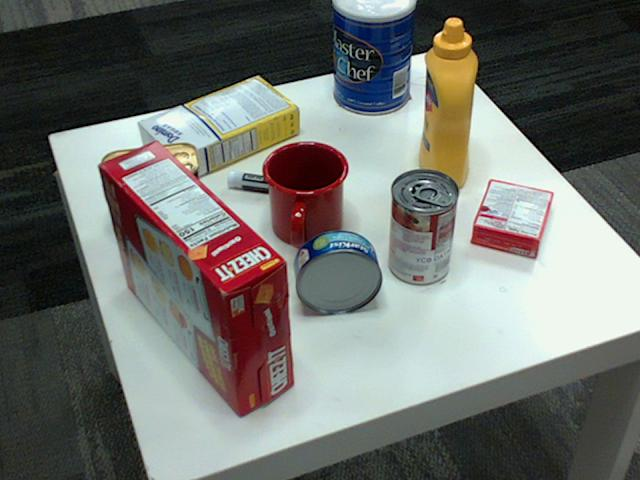cracker_box: (96, 140, 294, 414)
gelatin_box: (472, 179, 554, 257)
large_marker: (226, 174, 329, 199)
master_chef_can: (331, 0, 414, 114)
mug: (262, 138, 350, 246)
mustard_bottle: (418, 18, 477, 187)
potted_meat_can: (101, 142, 204, 240)
sugar_box: (138, 74, 301, 181)
tomato_soup_can: (388, 168, 458, 284)
tuna_fish_can: (295, 230, 383, 313)
